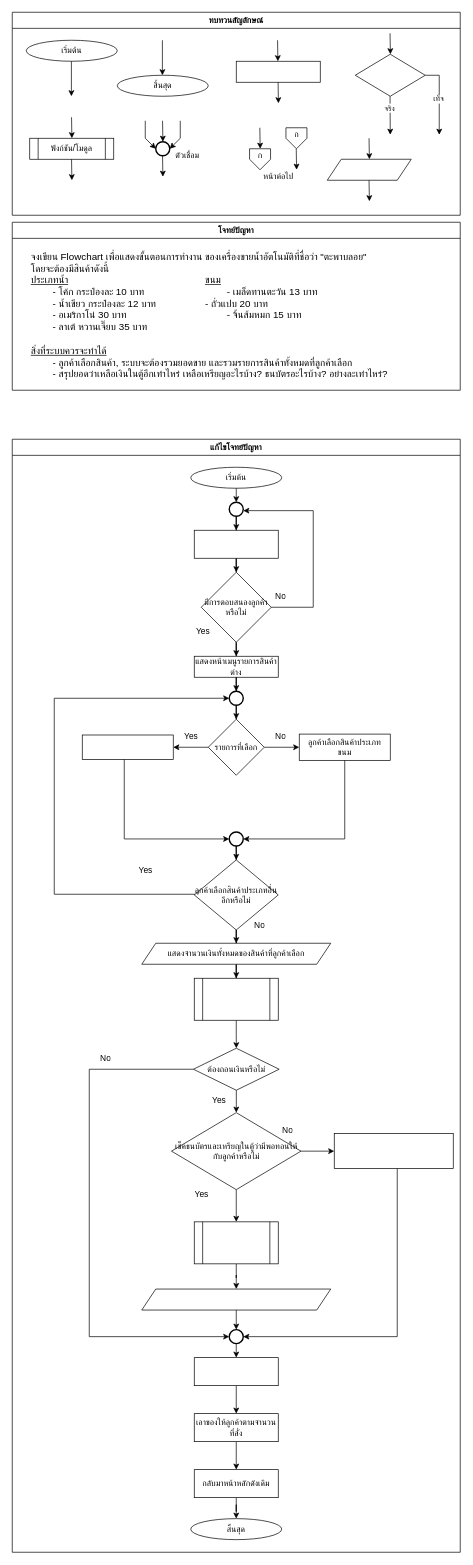
Image size: 473x1565. Some labels were removed from this diagram. Each missing label, with the centre of its shape:
กระบวนการ: [278,71]
คำนวณธนบัตร/เหรียญในการทอนคืนลูกค้า: [236,1242]
ทอนเงินให้ลูกค้าตามจำนวนที่คำนวณ: [236,1299]
ประโยคเงื่อนไข: [390,75]
ลูกค้าเลือกสินค้าประเภท น้ำ: [127,747]
แสดงข้อความบอกลูกค้าว่าธนบัตรและเหียญไม่พอ และ ให้แสกนQr code เพื่อรับเงินแทน: [393,1151]
แสดงธนบัตรและเหรียญที่อยู่ในตู้ตะพาบลอย: [236,999]
แสดงผล/รับค่า: [369,169]
แสดงหน้าขอบคุณลูกค้า: [236,1371]
แสดงหน้าหลักของตู้ ตะพาบลอย: [236,544]
